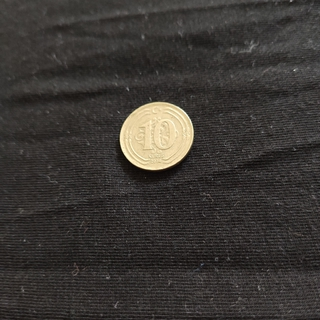10KURUS: (117, 99, 196, 172)
